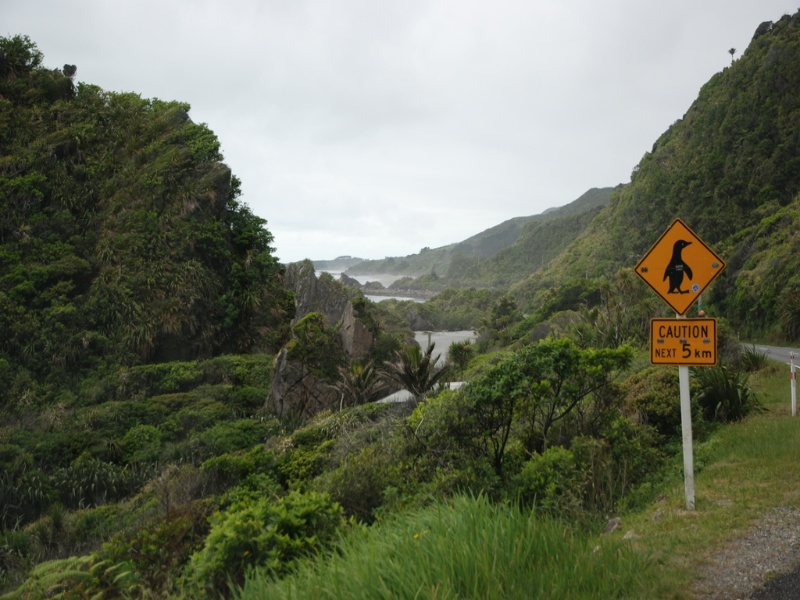animal_ahead: (635, 215, 725, 315)
